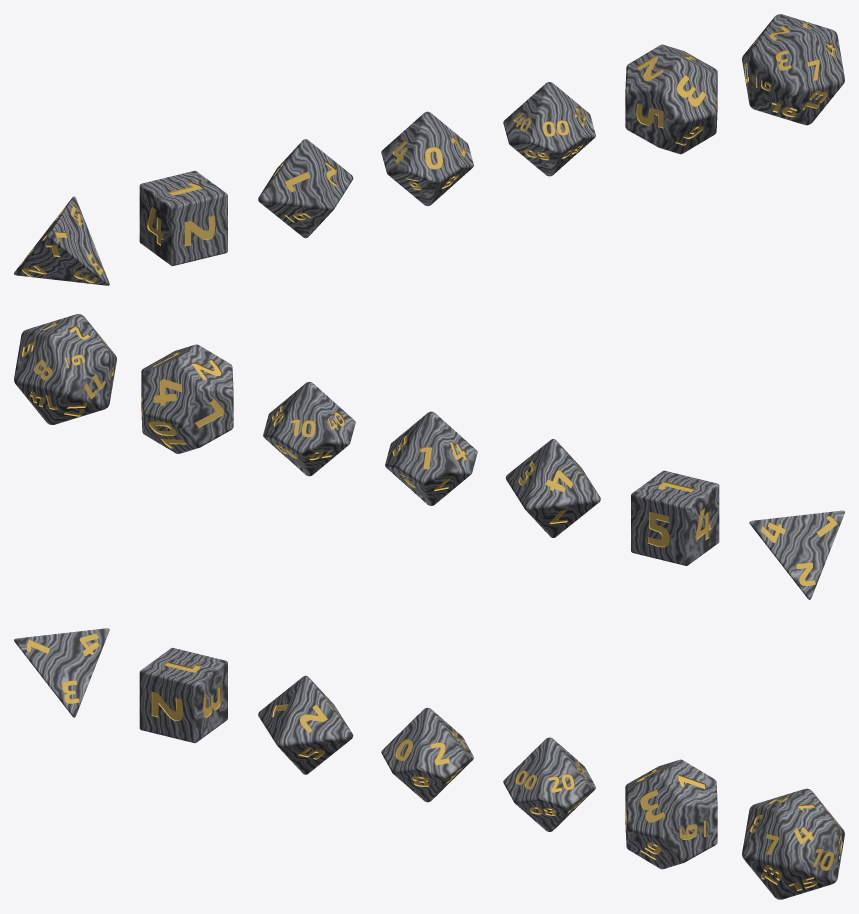
Rendered from damascus.glb.
3 renders of one model, top to bottom at view 1: azimuth 30°, elevation 25°; view 2: azimuth 150°, elevation 25°; view 3: azimuth 330°, elevation 25°, orthographic.
Visible parts, largest first — view 1: d20, d12, d6, d100, d10, d8, d4; view 2: d20, d12, d6, d100, d10, d8, d4; view 3: d20, d12, d6, d8, d100, d10, d4.
Part boxes in pixels (bbox=[...]): d20: bbox=[742, 14, 844, 125]; d12: bbox=[625, 44, 717, 154]; d6: bbox=[139, 170, 227, 266]; d100: bbox=[503, 82, 595, 176]; d10: bbox=[381, 111, 473, 206]; d8: bbox=[258, 139, 353, 238]; d4: bbox=[14, 196, 109, 285]; d20: bbox=[14, 314, 116, 424]; d12: bbox=[141, 344, 233, 453]; d6: bbox=[631, 470, 719, 565]; d100: bbox=[263, 382, 355, 476]; d10: bbox=[385, 411, 477, 505]; d8: bbox=[505, 439, 600, 537]; d4: bbox=[749, 510, 844, 599]; d20: bbox=[742, 788, 844, 899]; d12: bbox=[625, 759, 717, 869]; d6: bbox=[139, 647, 227, 743]; d8: bbox=[258, 675, 353, 774]; d100: bbox=[503, 737, 595, 831]; d10: bbox=[381, 707, 473, 802]; d4: bbox=[14, 628, 109, 717].
Size of the model in its own units: 21.14 by 2.47 by 2.47.
14 materials, 7 textured.
